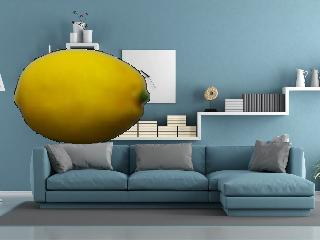lemon: (7, 43, 155, 146)
